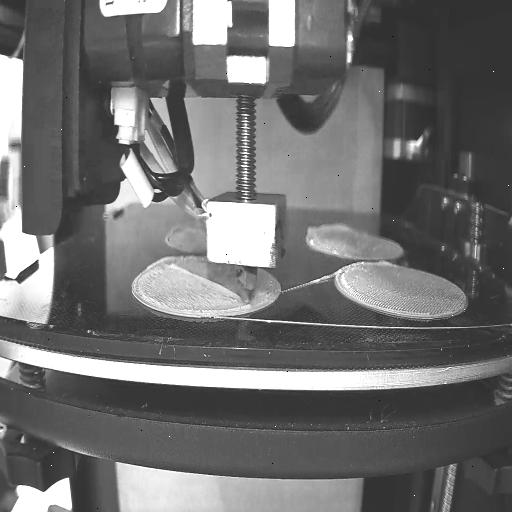over_extrusion: (168, 260, 242, 302), (305, 222, 353, 242), (377, 260, 397, 268)
